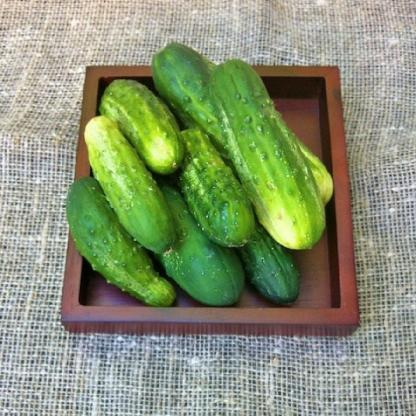--: (208, 52, 328, 262), (83, 110, 180, 260), (103, 71, 187, 171)
